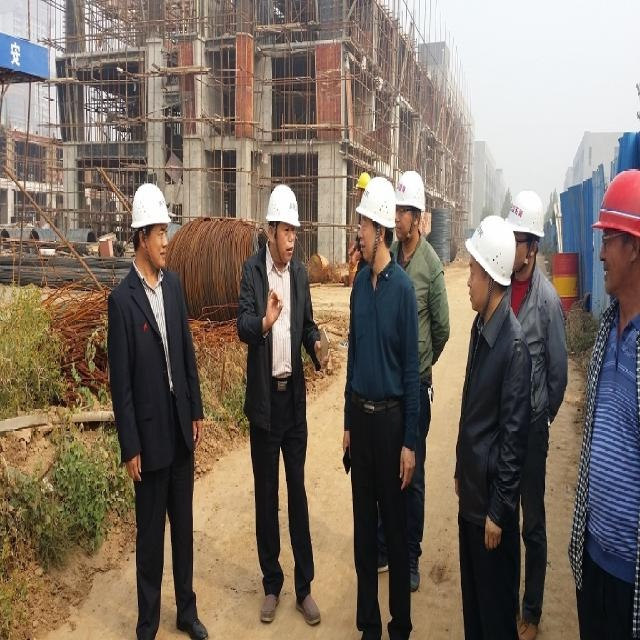Con_Casco: (132, 181, 169, 269), (265, 183, 299, 260)
Sin_Chaleco: (456, 307, 532, 509), (346, 264, 419, 420)
